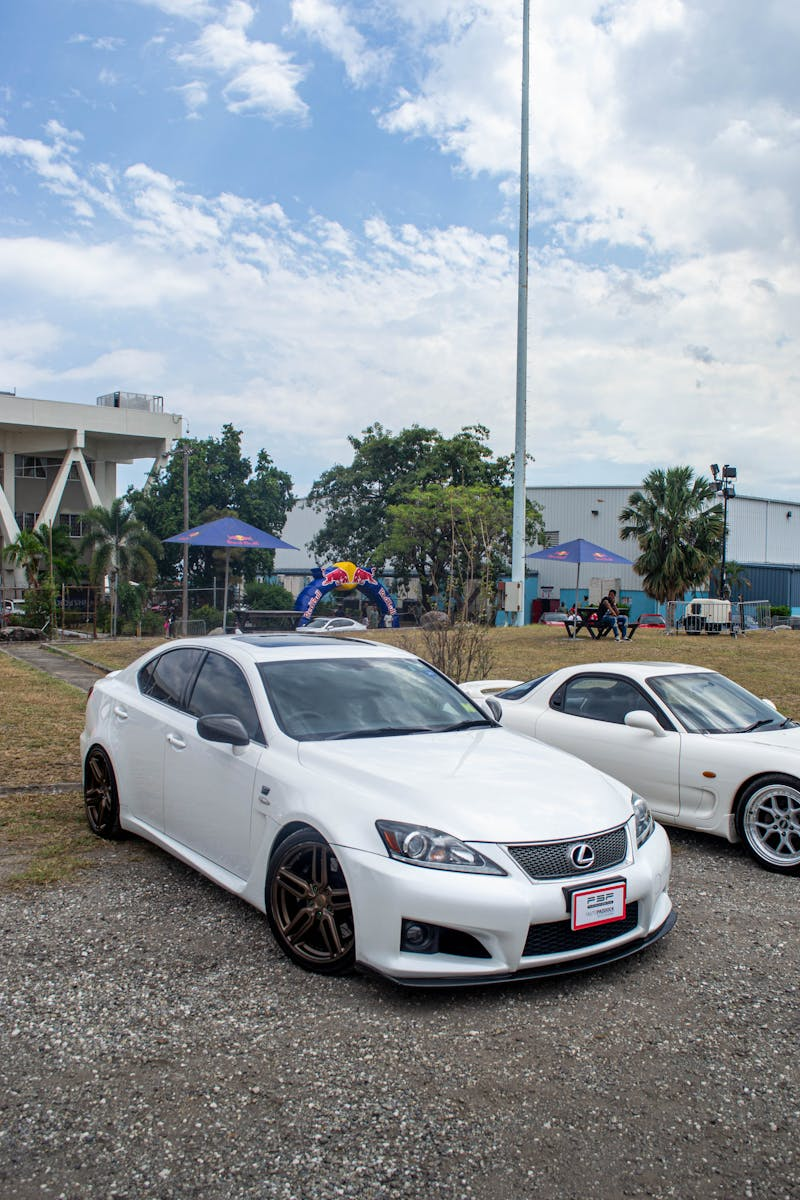other: (76, 614, 688, 991), (465, 652, 800, 878)
